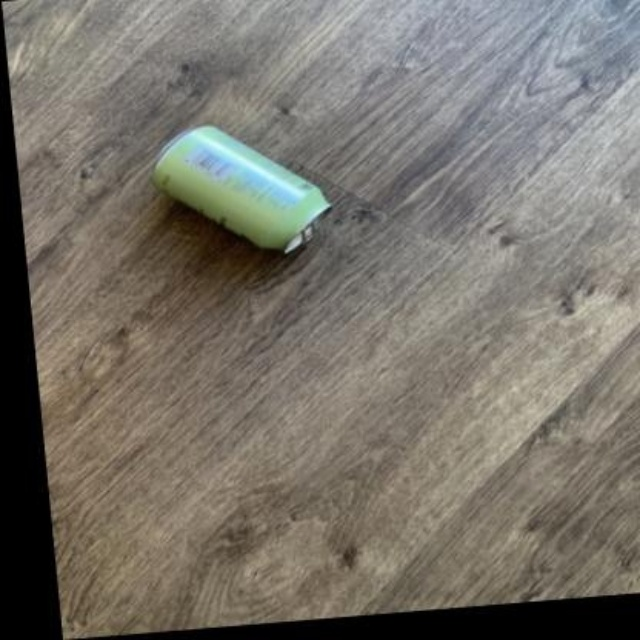trash: (151, 126, 329, 251)
